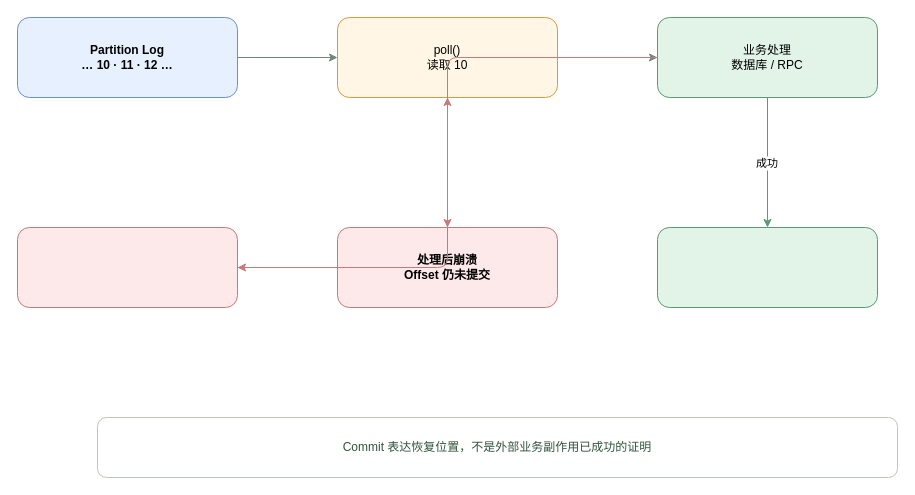
Some shapes in this 915 by 495 pixel diagram are drawn without their labels. Each missing label, with the centre of its shape:
"commit 11 Group 书签推进" goes at (767,267).
"重启后再次 poll 10 需要业务幂等 / 去重" goes at (127,267).
